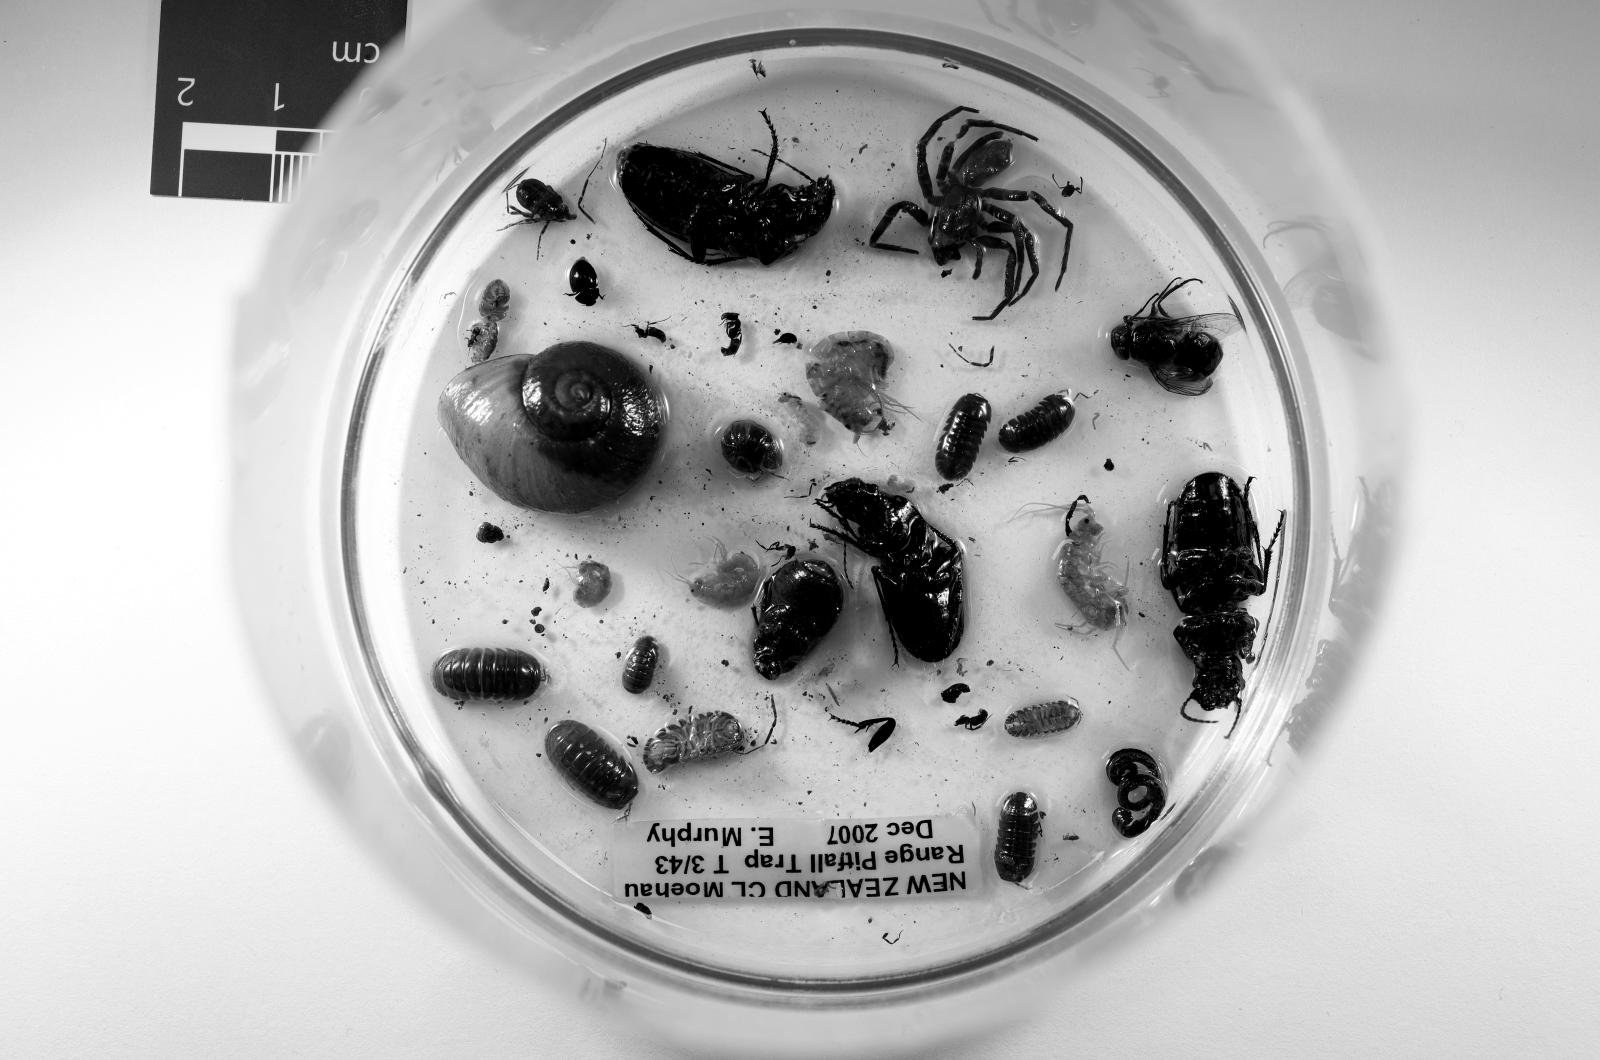amphipoda: (807, 332, 909, 441), (1056, 509, 1128, 631), (681, 537, 763, 606), (778, 394, 818, 444), (575, 562, 613, 608)
annelida: (1106, 749, 1166, 839)
araneae: (869, 105, 1071, 319)
carabidae: (616, 111, 835, 264), (1159, 472, 1275, 717), (816, 478, 966, 661)
coleoptera: (753, 558, 843, 680), (569, 258, 600, 308)
diptera: (1109, 279, 1241, 394)
formicidae: (721, 310, 744, 357)
gastropoda: (438, 342, 662, 512)
isopoda: (544, 720, 637, 810), (643, 711, 744, 774), (434, 649, 546, 705), (934, 394, 991, 481), (993, 791, 1044, 885), (1000, 392, 1075, 453), (721, 419, 784, 476), (1006, 702, 1081, 736), (622, 636, 660, 692), (466, 319, 500, 363), (478, 279, 510, 319)
opiliones: (510, 180, 575, 230)
